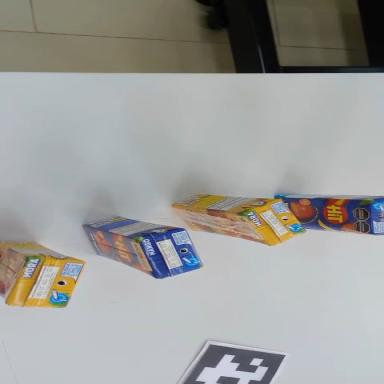HIT-MANGO: (77, 211, 208, 286), (275, 195, 384, 235)
HIT-MORA: (171, 193, 306, 247), (0, 241, 86, 310)
cara_F: (74, 216, 167, 281), (169, 206, 270, 246), (273, 196, 373, 235), (0, 241, 29, 303)
